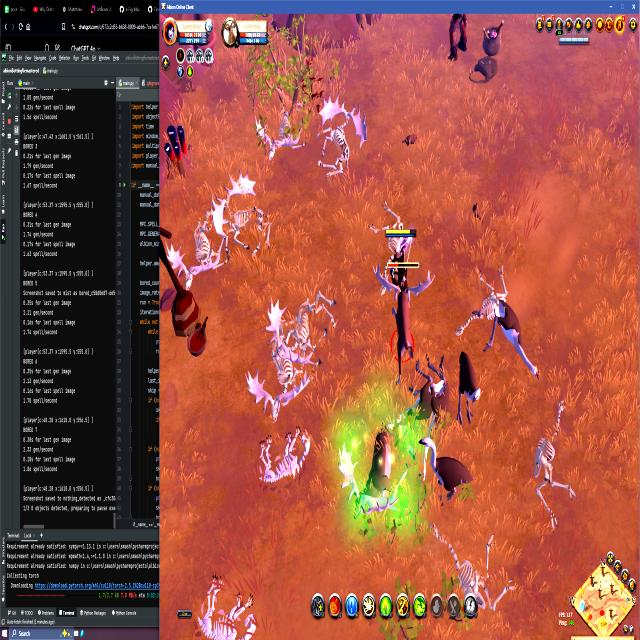mob: (337, 416, 412, 528), (472, 293, 541, 386), (404, 347, 452, 430)
ore: (372, 260, 433, 364), (417, 435, 472, 510), (453, 346, 483, 429), (446, 12, 471, 70)
player: (160, 120, 196, 183)
red: (384, 226, 418, 290), (556, 34, 594, 49)
